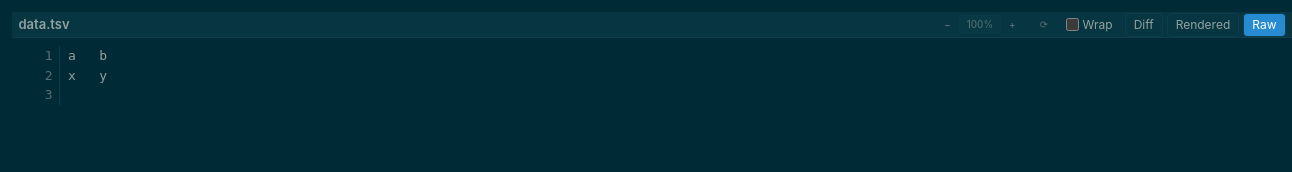
Test: ContentViewer › csv/tsv class (csv-view dispatch + memory-derived cap) › a .tsv is parsed with tab delimiters
The width and height of the screenshot is (1292, 172).
Step 1. Click the tab "Rendered" → (1203, 24), box [1167,12,1239,36]
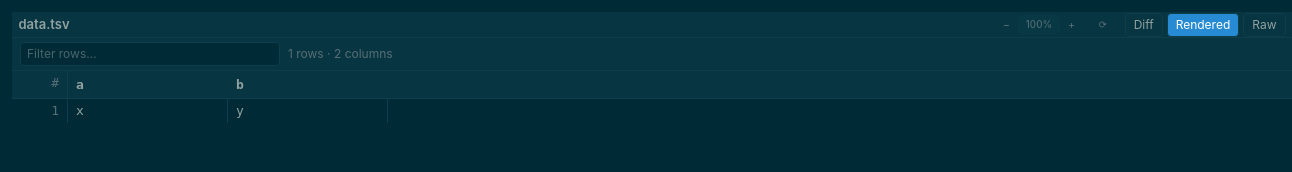
Expected: the text with test id "csv-row-count" reads "1 rows · 2 columns", [288,45,393,63]
